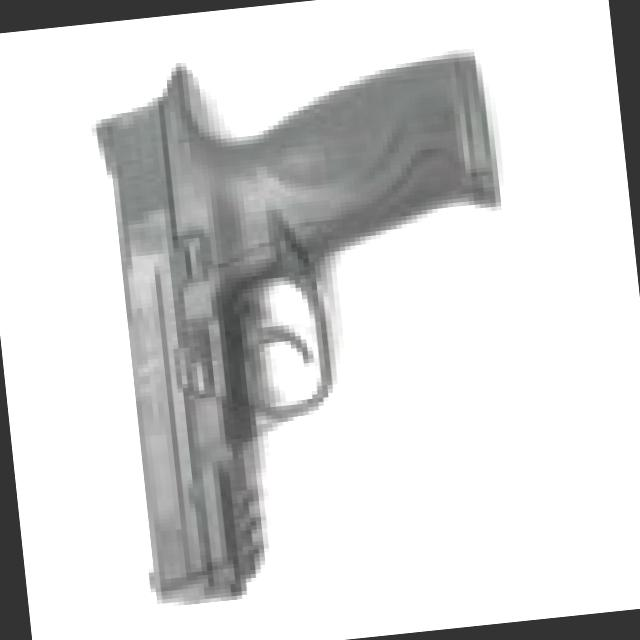handgun: (84, 31, 530, 616)
